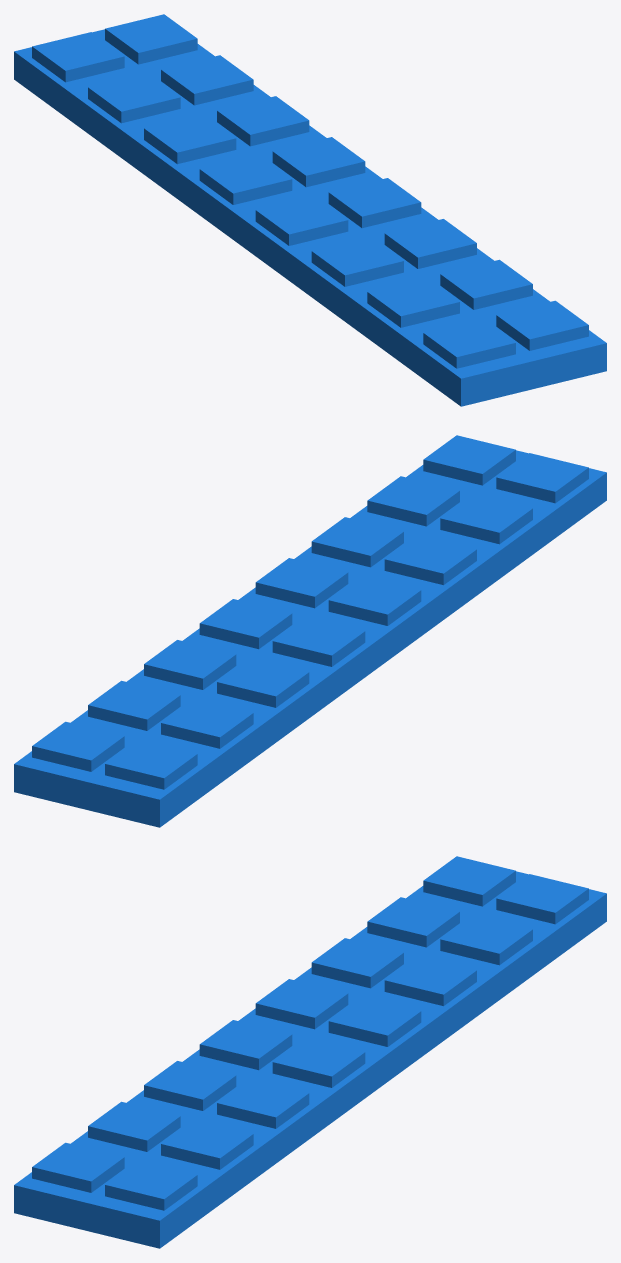
Rendered from Lego_Part_9.fbx.
3 renders of one model, top to bottom at view 1: azimuth 30°, elevation 25°; view 2: azimuth 150°, elevation 25°; view 3: azimuth 330°, elevation 25°, orthographic.
Parts seen in each view (by area): view 1: Lego_Part_9; view 2: Lego_Part_9; view 3: Lego_Part_9.
Part boxes in pixels (bbox=[...]): Lego_Part_9: bbox=[14, 14, 606, 406]; Lego_Part_9: bbox=[14, 435, 606, 827]; Lego_Part_9: bbox=[14, 856, 606, 1248].
Bounding box in the file's own units: 4.16 × 1.08 × 22.09.
Materials: 1 (1 with a texture image).
